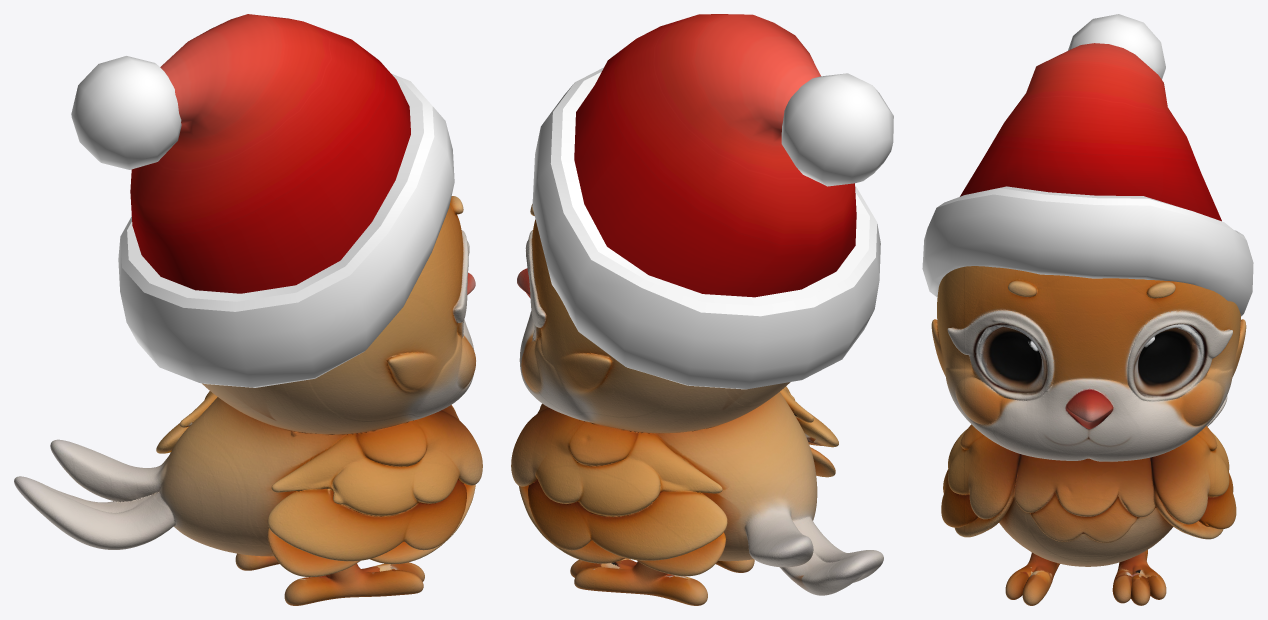
File: birdy_chrismas_hat.glb
The picture shows the model from 3 angles, left to right: view 1: azimuth 30°, elevation 25°; view 2: azimuth 150°, elevation 25°; view 3: azimuth 270°, elevation 25°; orthographic projection. The views are drawn at different scales.
Visible parts, largest first — view 1: Gorro_navidad, tripo_part_10_Clone, tripo_part_8_Clone, tripo_part_3_Clone, tripo_part_1_Clone, tripo_part_13_Clone, tripo_part_6_Clone, tripo_part_0_Clone, tripo_part_4_Clone, tripo_part_2_Clone; view 2: Gorro_navidad, tripo_part_10_Clone, tripo_part_15_Clone, tripo_part_8_Clone, tripo_part_16_Clone, tripo_part_13_Clone, tripo_part_11_Clone, tripo_part_18_Clone, tripo_part_1_Clone, tripo_part_14_Clone, tripo_part_17_Clone; view 3: Gorro_navidad, tripo_part_10_Clone, tripo_part_7_Clone, tripo_part_4_Clone, tripo_part_14_Clone, tripo_part_15_Clone, tripo_part_8_Clone, tripo_part_3_Clone, tripo_part_11_Clone, tripo_part_16_Clone, tripo_part_6_Clone, tripo_part_1_Clone (+3 smaller).
Boxes of the visible parts, x1=… form: Gorro_navidad: x1=71, y1=14, x2=454, y2=387; tripo_part_10_Clone: x1=202, y1=204, x2=474, y2=434; tripo_part_8_Clone: x1=153, y1=397, x2=345, y2=556; tripo_part_3_Clone: x1=271, y1=411, x2=482, y2=515; tripo_part_1_Clone: x1=267, y1=480, x2=475, y2=577; tripo_part_13_Clone: x1=14, y1=439, x2=174, y2=549; tripo_part_6_Clone: x1=284, y1=562, x2=424, y2=605; tripo_part_0_Clone: x1=387, y1=351, x2=438, y2=393; tripo_part_4_Clone: x1=452, y1=230, x2=469, y2=338; tripo_part_2_Clone: x1=457, y1=336, x2=475, y2=388; Gorro_navidad: x1=532, y1=14, x2=893, y2=389; tripo_part_10_Clone: x1=519, y1=219, x2=790, y2=433; tripo_part_15_Clone: x1=511, y1=408, x2=722, y2=517; tripo_part_8_Clone: x1=661, y1=392, x2=817, y2=561; tripo_part_16_Clone: x1=519, y1=479, x2=727, y2=576; tripo_part_13_Clone: x1=743, y1=497, x2=883, y2=595; tripo_part_11_Clone: x1=570, y1=558, x2=707, y2=605; tripo_part_18_Clone: x1=554, y1=349, x2=612, y2=395; tripo_part_1_Clone: x1=796, y1=413, x2=838, y2=477; tripo_part_14_Clone: x1=525, y1=230, x2=546, y2=343; tripo_part_17_Clone: x1=521, y1=340, x2=541, y2=391; Gorro_navidad: x1=922, y1=14, x2=1253, y2=316; tripo_part_10_Clone: x1=937, y1=266, x2=1240, y2=461; tripo_part_7_Clone: x1=1010, y1=453, x2=1154, y2=542; tripo_part_4_Clone: x1=947, y1=308, x2=1054, y2=400; tripo_part_14_Clone: x1=1126, y1=310, x2=1232, y2=401; tripo_part_15_Clone: x1=1149, y1=426, x2=1229, y2=524; tripo_part_8_Clone: x1=999, y1=499, x2=1173, y2=566; tripo_part_3_Clone: x1=948, y1=424, x2=1019, y2=519; tripo_part_11_Clone: x1=1112, y1=550, x2=1166, y2=605; tripo_part_16_Clone: x1=1152, y1=472, x2=1236, y2=539; tripo_part_6_Clone: x1=1005, y1=552, x2=1059, y2=605; tripo_part_1_Clone: x1=941, y1=469, x2=1006, y2=537.
Size of the model in its own units: 0.9294 by 1.25 by 0.7491.
2 materials, 2 textured.
